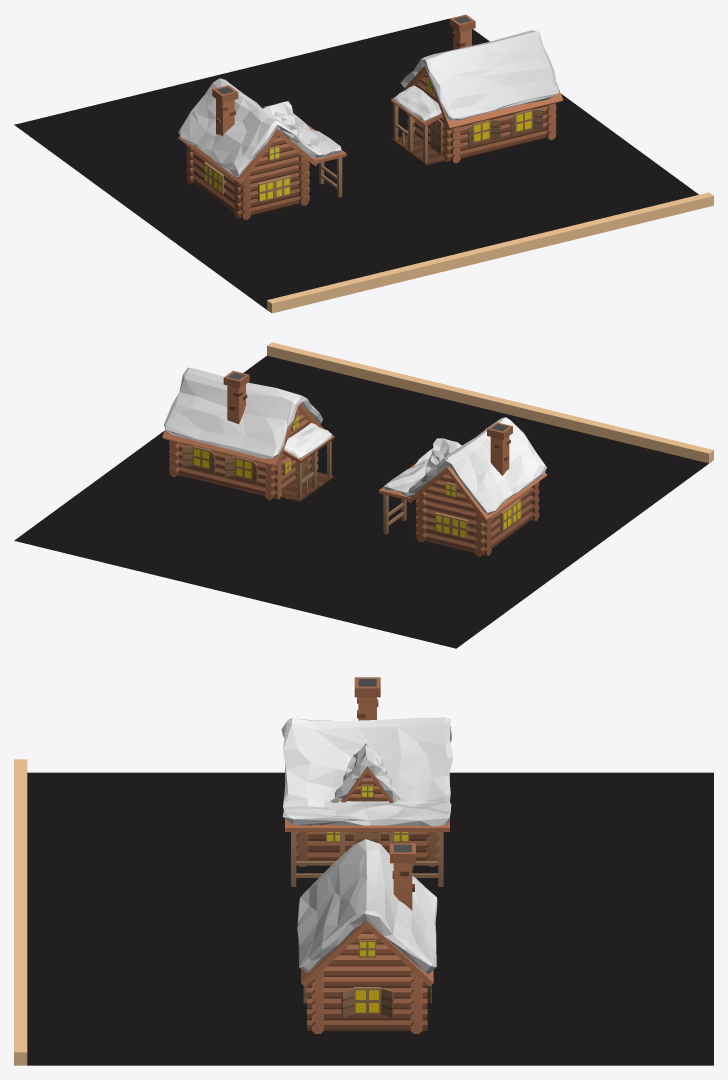
Rendered from Tile 27_Combined.fbx.
The picture shows the model from 3 angles, top to bottom: view 1: azimuth 30°, elevation 25°; view 2: azimuth 150°, elevation 25°; view 3: azimuth 270°, elevation 25°; orthographic projection. The views are drawn at different scales.
Visible parts, largest first — view 1: MeshBaker_Cluster_0_mesh_mesh; view 2: MeshBaker_Cluster_0_mesh_mesh; view 3: MeshBaker_Cluster_0_mesh_mesh.
Part boxes in pixels (box(x1,y1,x2,y2)): MeshBaker_Cluster_0_mesh_mesh: box(14, 14, 713, 313); MeshBaker_Cluster_0_mesh_mesh: box(14, 342, 713, 648); MeshBaker_Cluster_0_mesh_mesh: box(14, 677, 713, 1065).
Bounding box in the file's own units: 3000 × 694 × 3029.
